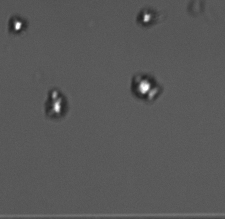Living Cell: (132, 74, 159, 99), (46, 89, 67, 120), (136, 8, 157, 27), (9, 16, 27, 34)
